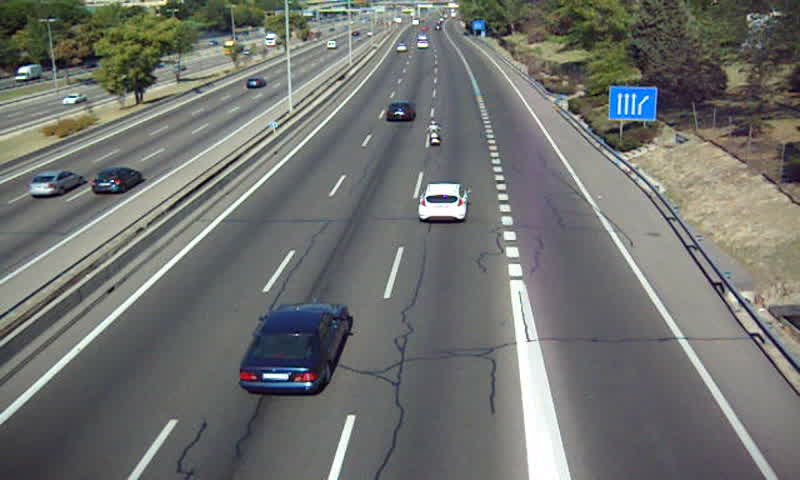car: (238, 304, 349, 394), (419, 183, 469, 223), (385, 100, 417, 123)
motorcycle: (425, 120, 444, 147)
